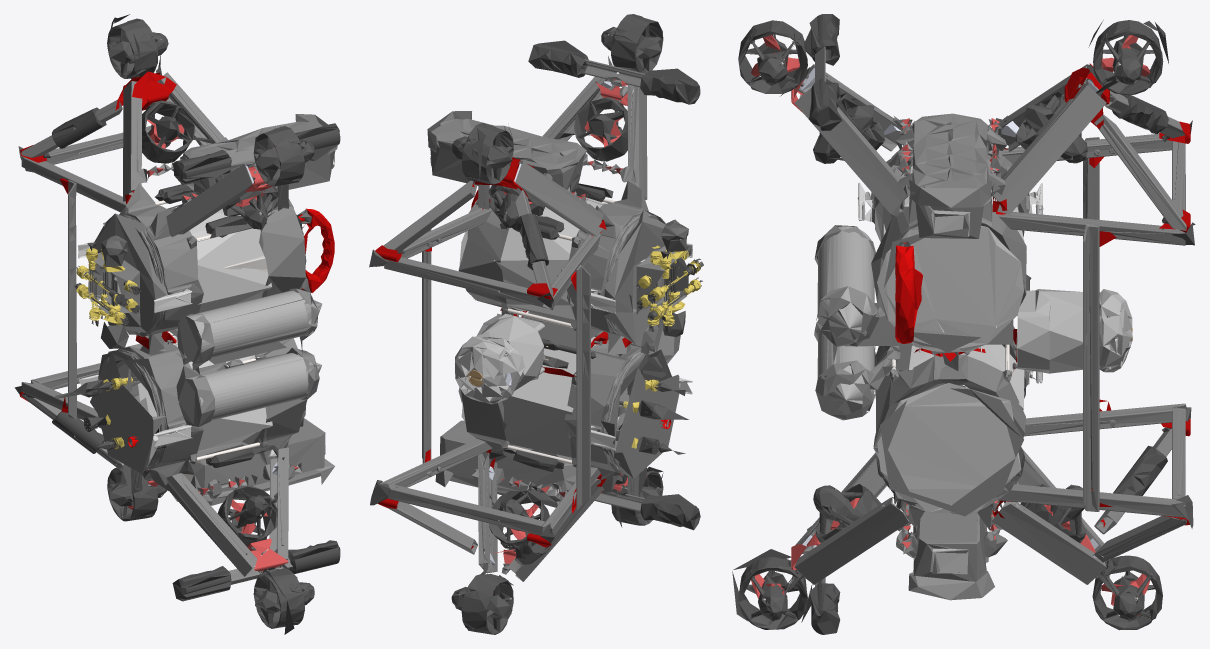
File: talos.glb
3 renders of one model, left to right at view 1: azimuth 30°, elevation 25°; view 2: azimuth 150°, elevation 25°; view 3: azimuth 270°, elevation 25°, orthographic. The views are drawn at different scales.
Parts seen in each view (by area): view 1: part_0, part_3, part_18, part_7, part_2, part_8, part_9, part_6, part_5, part_22, part_24, part_15 (+3 smaller); view 2: part_0, part_3, part_2, part_7, part_11, part_5, part_6, part_22, part_8, part_9, part_21, part_15 (+2 smaller); view 3: part_0, part_2, part_3, part_7, part_11, part_18, part_6, part_9, part_24, part_22, part_8, part_15 (+2 smaller).
Part boxes in pixels (bbox=[...]): part_0: bbox=[21, 72, 335, 584]; part_3: bbox=[55, 18, 314, 628]; part_18: bbox=[179, 290, 322, 424]; part_7: bbox=[43, 14, 340, 634]; part_2: bbox=[138, 160, 333, 451]; part_8: bbox=[101, 209, 311, 364]; part_9: bbox=[127, 119, 298, 571]; part_6: bbox=[108, 114, 337, 495]; part_5: bbox=[76, 248, 157, 448]; part_22: bbox=[19, 71, 176, 401]; part_24: bbox=[60, 178, 334, 412]; part_15: bbox=[78, 241, 192, 447]; part_0: bbox=[375, 59, 688, 581]; part_3: bbox=[451, 14, 703, 634]; part_2: bbox=[459, 197, 629, 457]; part_7: bbox=[398, 40, 700, 585]; part_11: bbox=[455, 313, 544, 404]; part_5: bbox=[623, 245, 700, 448]; part_6: bbox=[427, 111, 668, 495]; part_22: bbox=[375, 157, 631, 548]; part_8: bbox=[464, 219, 688, 387]; part_9: bbox=[492, 73, 646, 592]; part_21: bbox=[369, 56, 613, 545]; part_15: bbox=[543, 243, 692, 450]; part_0: bbox=[794, 46, 1186, 586]; part_2: bbox=[875, 166, 1026, 574]; part_3: bbox=[738, 20, 1163, 630]; part_7: bbox=[732, 14, 1169, 634]; part_11: bbox=[900, 141, 1132, 373]; part_18: bbox=[817, 226, 874, 414]; part_6: bbox=[877, 121, 1024, 600]; part_9: bbox=[751, 35, 1150, 616]; part_24: bbox=[895, 156, 1116, 506]; part_22: bbox=[914, 63, 1190, 527]; part_8: bbox=[845, 241, 1117, 352]; part_15: bbox=[857, 182, 1117, 383].
Size of the model in its own units: 0.5123 by 0.9205 by 0.6369.
